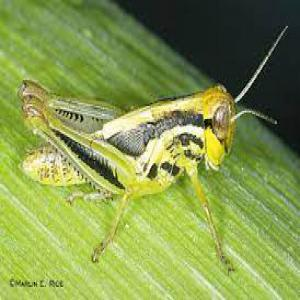locust: (28, 43, 279, 208)
